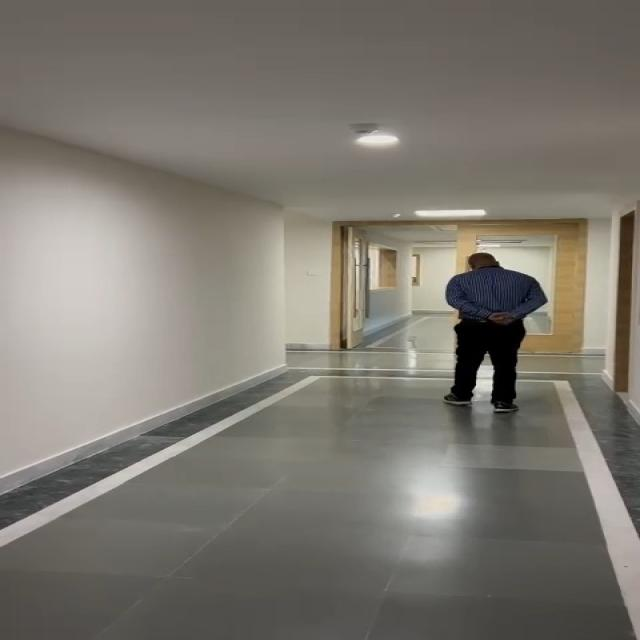floor: (0, 494, 640, 640), (294, 350, 445, 495)
moving_object: (427, 246, 556, 426)
wall: (0, 129, 273, 387)
